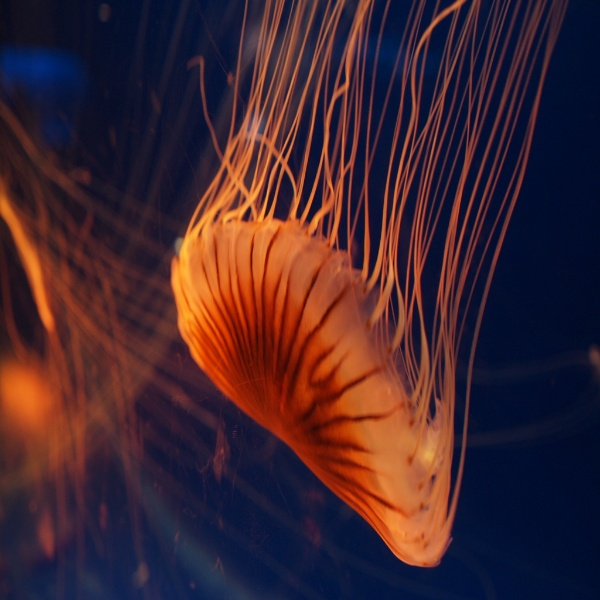Jellyfish: (124, 13, 600, 600)
